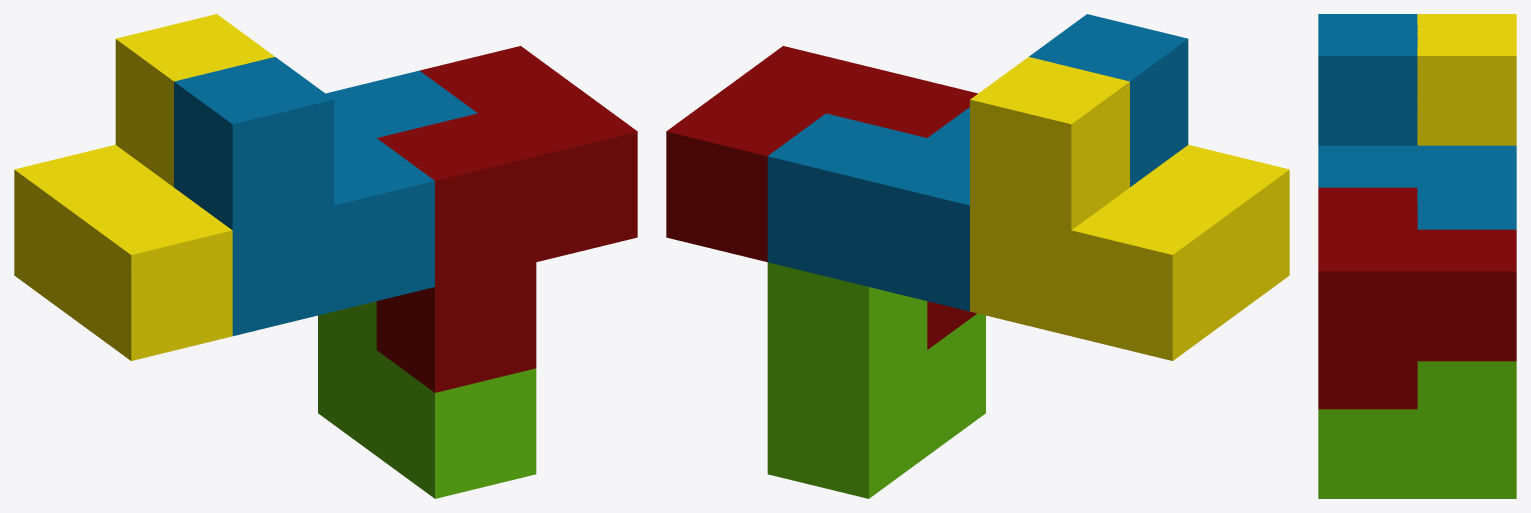
3 views of the same model, side by side, from view 1: azimuth 30°, elevation 25°; view 2: azimuth 150°, elevation 25°; view 3: azimuth 270°, elevation 25° (orthographic). The views are drawn at different scales.
Visible parts, largest first — view 1: mergedBlocks(Clone); view 2: mergedBlocks(Clone); view 3: mergedBlocks(Clone).
Boxes of the visible parts, left/top/right/bottom form: mergedBlocks(Clone): left=14, top=14, right=637, bottom=498; mergedBlocks(Clone): left=666, top=14, right=1289, bottom=498; mergedBlocks(Clone): left=1318, top=14, right=1516, bottom=498.
Bounding box in the file's own units: 5 × 4 × 2.
Materials: 4 (4 with a texture image).
